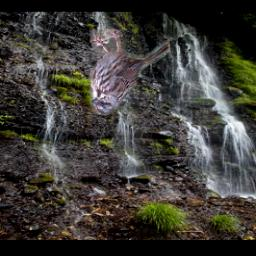Sparrow: (91, 29, 171, 115)
